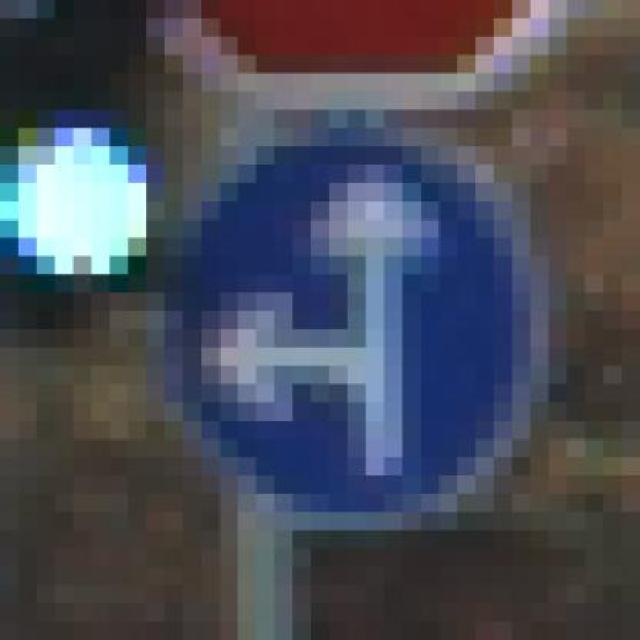Go straight or turn left: (110, 110, 567, 548)
